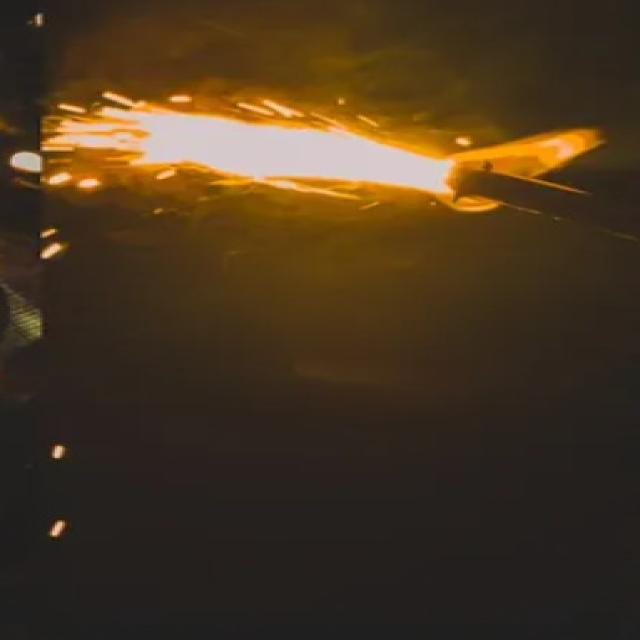fire: (42, 92, 606, 213)
